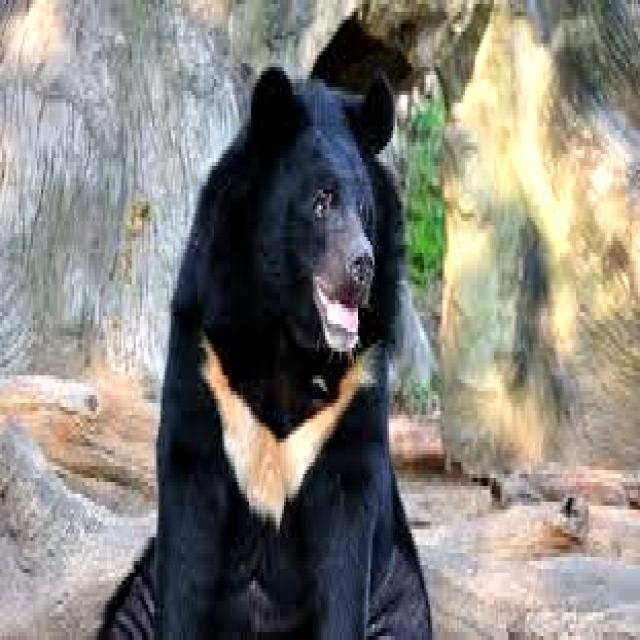bear: (196, 59, 389, 486)
